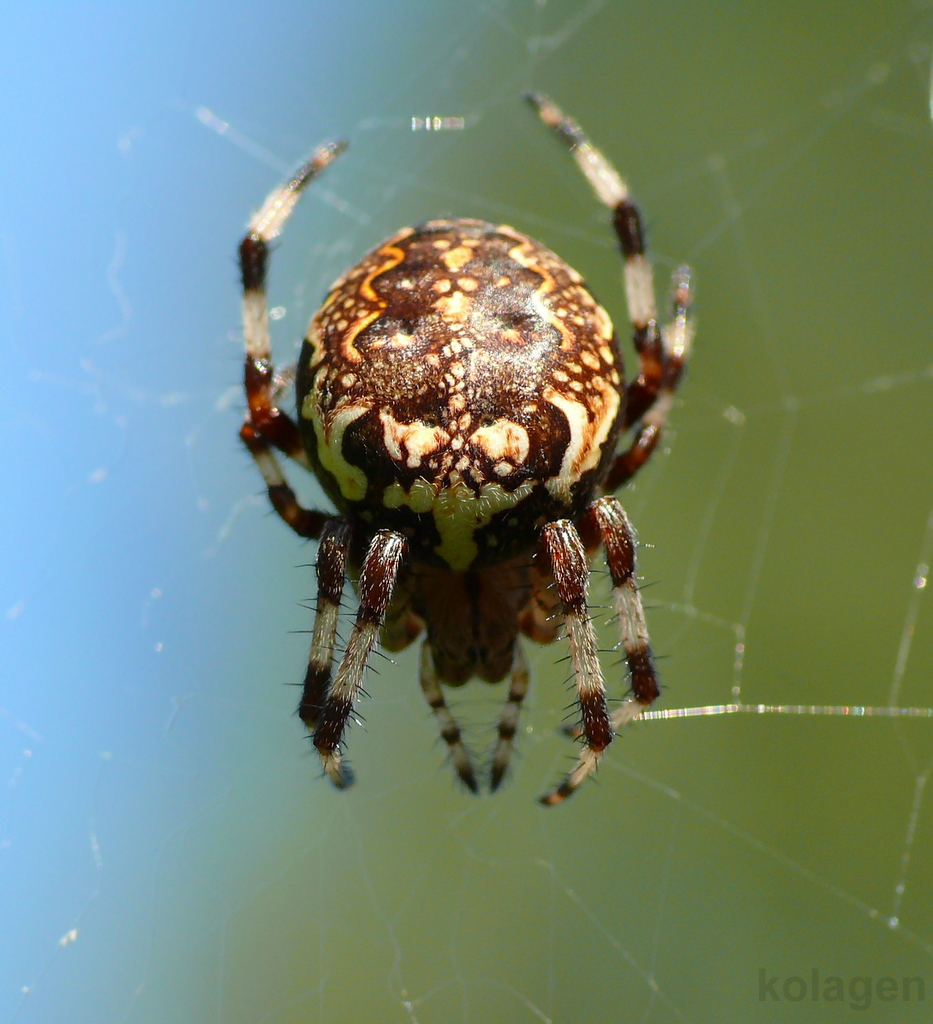spider: (197, 33, 772, 823)
